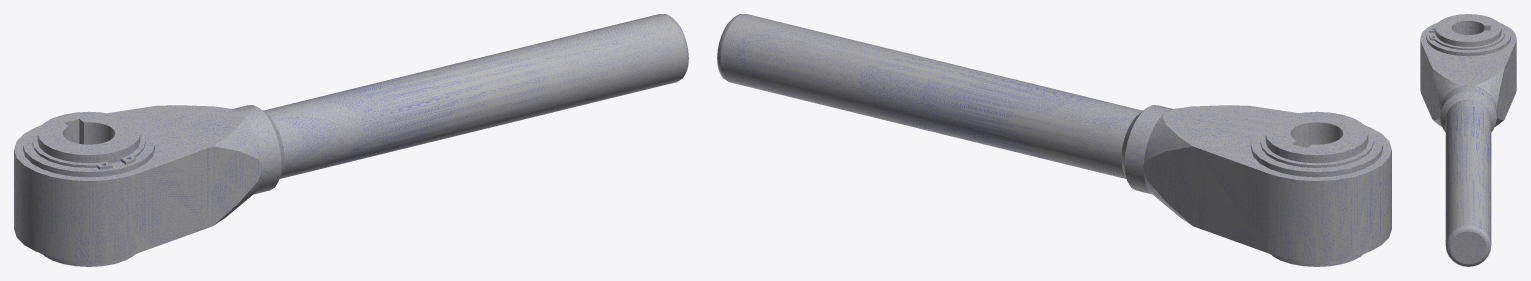
The model's file is _ratchet.dae.
The picture shows the model from 3 angles, left to right: view 1: azimuth 30°, elevation 25°; view 2: azimuth 150°, elevation 25°; view 3: azimuth 270°, elevation 25°; orthographic projection. The views are drawn at different scales.
Parts seen in each view (by area): view 1: SketchUp; view 2: SketchUp; view 3: SketchUp.
Part boxes in pixels (box(x1,y1,x2,y2)): SketchUp: box(14, 14, 688, 266); SketchUp: box(717, 14, 1391, 266); SketchUp: box(1420, 14, 1516, 266).
Bounding box in the file's own units: 256 × 51 × 42.
